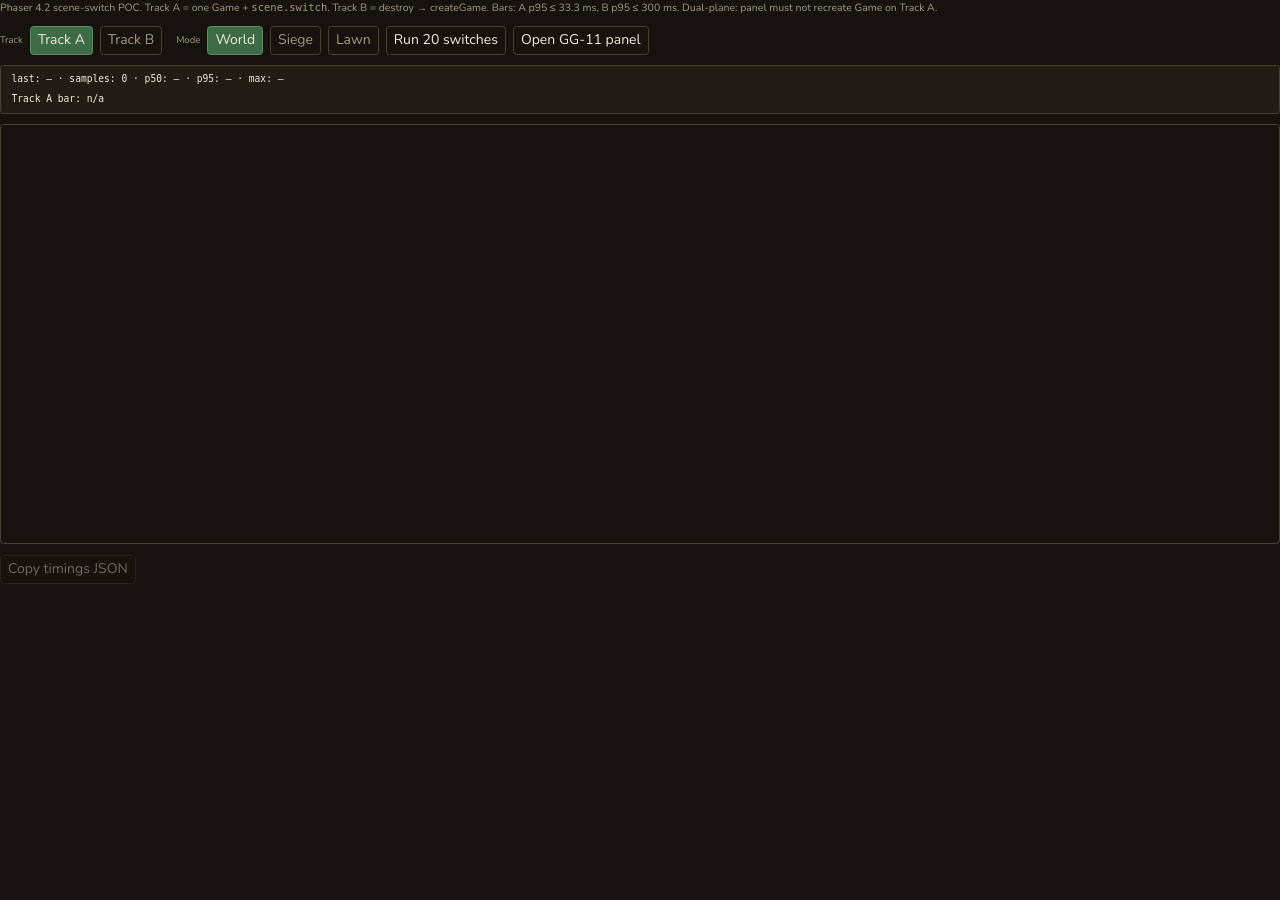
Test: PhaserSceneSwitchPocPage › GG-11 panel keeps the same Game identity token on Track A
Click the button with test id "phaser-scene-poc-panel-open".
click(581, 40)  # box [513, 26, 649, 55]
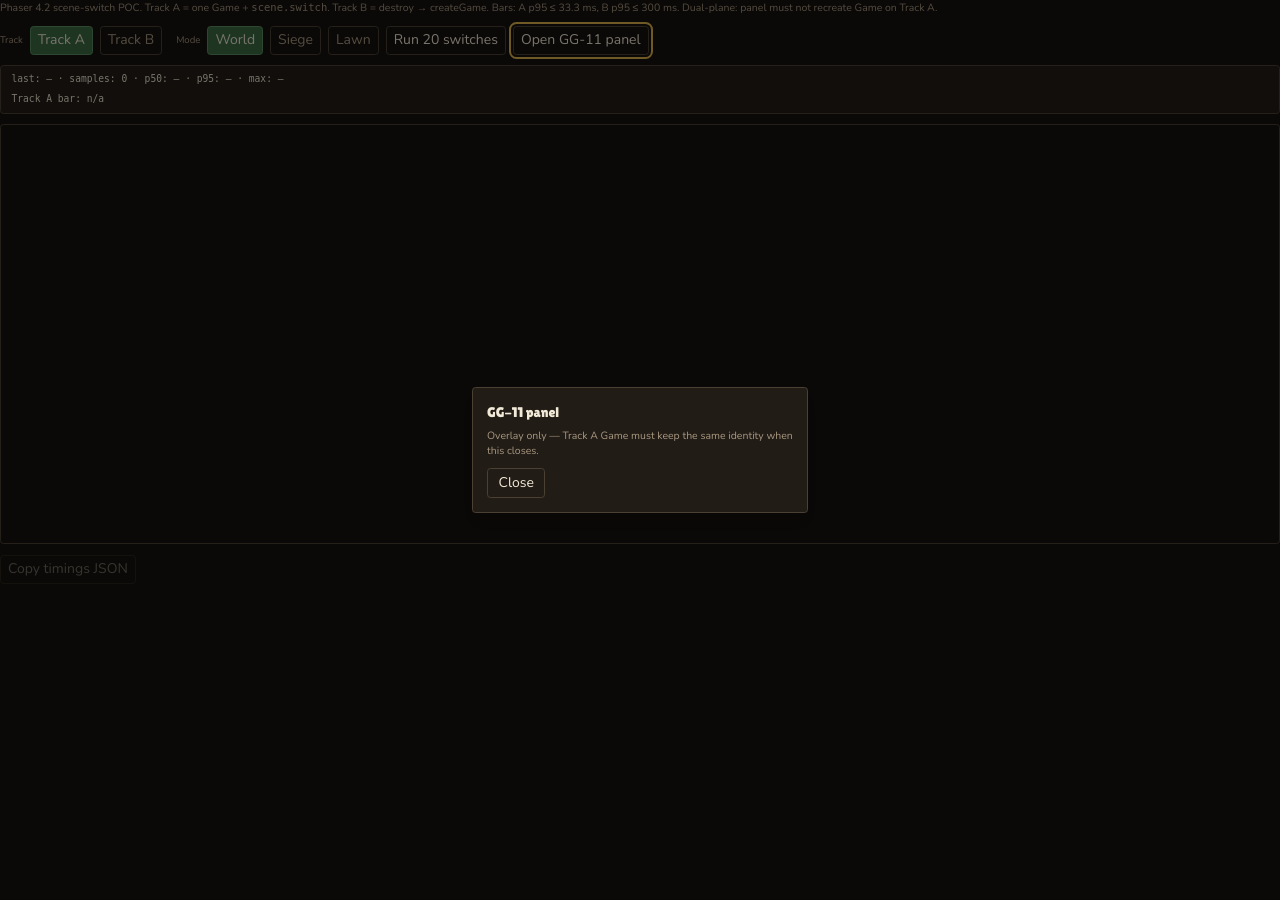
expect the element with test id "phaser-scene-poc-panel" is shown: met
Click the button with test id "phaser-scene-poc-panel-close".
click(516, 483)  # box [487, 468, 546, 498]
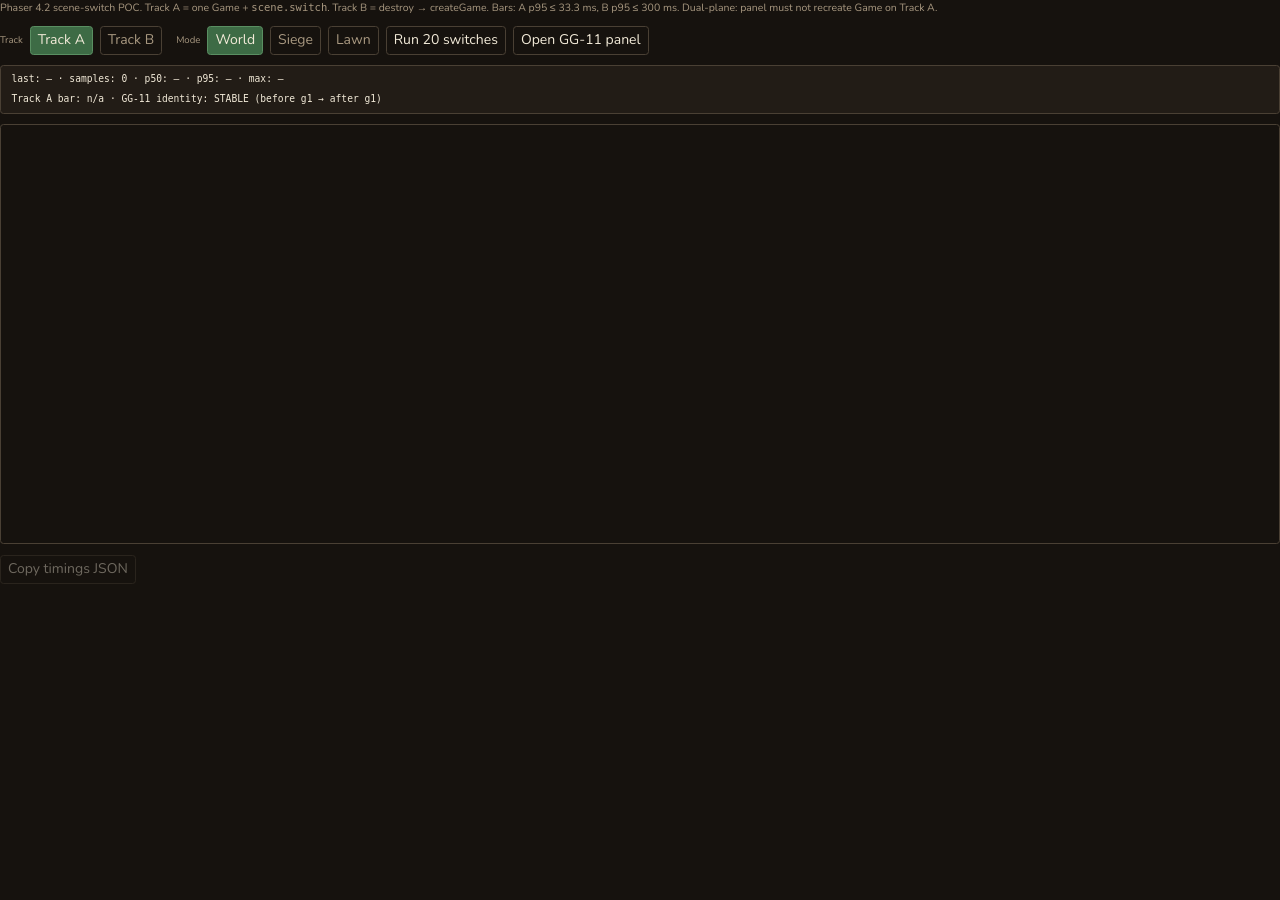
expect the element with test id "phaser-scene-poc-metrics" shows "GG-11 identity: STABLE": met, box [0, 65, 1279, 114]
